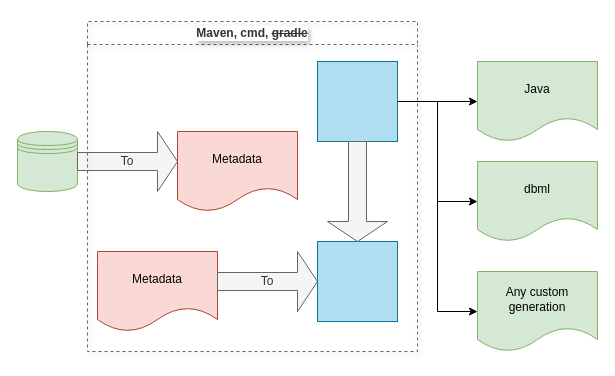
This 615x376 diagram has some shape labels left out. The shapes that lost their labels are listed below. From the top down, each one's centre as x and y in pixels, then its label:
(x=357, y=101): Mustache
(x=47, y=161): DB
(x=357, y=191): Reads
(x=357, y=281): Context
